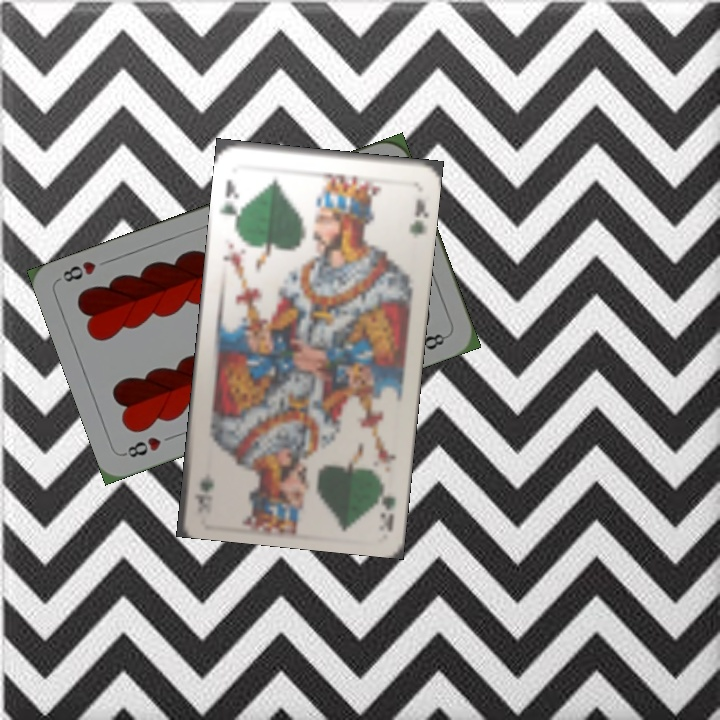GK: (373, 471, 399, 532), (216, 176, 244, 225)
H8: (120, 432, 164, 461)
